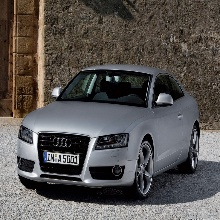no damage: (17, 64, 201, 198)
